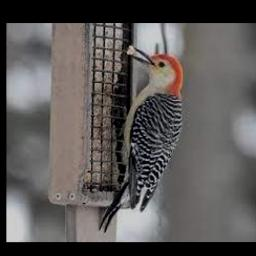Woodpecker: (99, 46, 183, 232)
